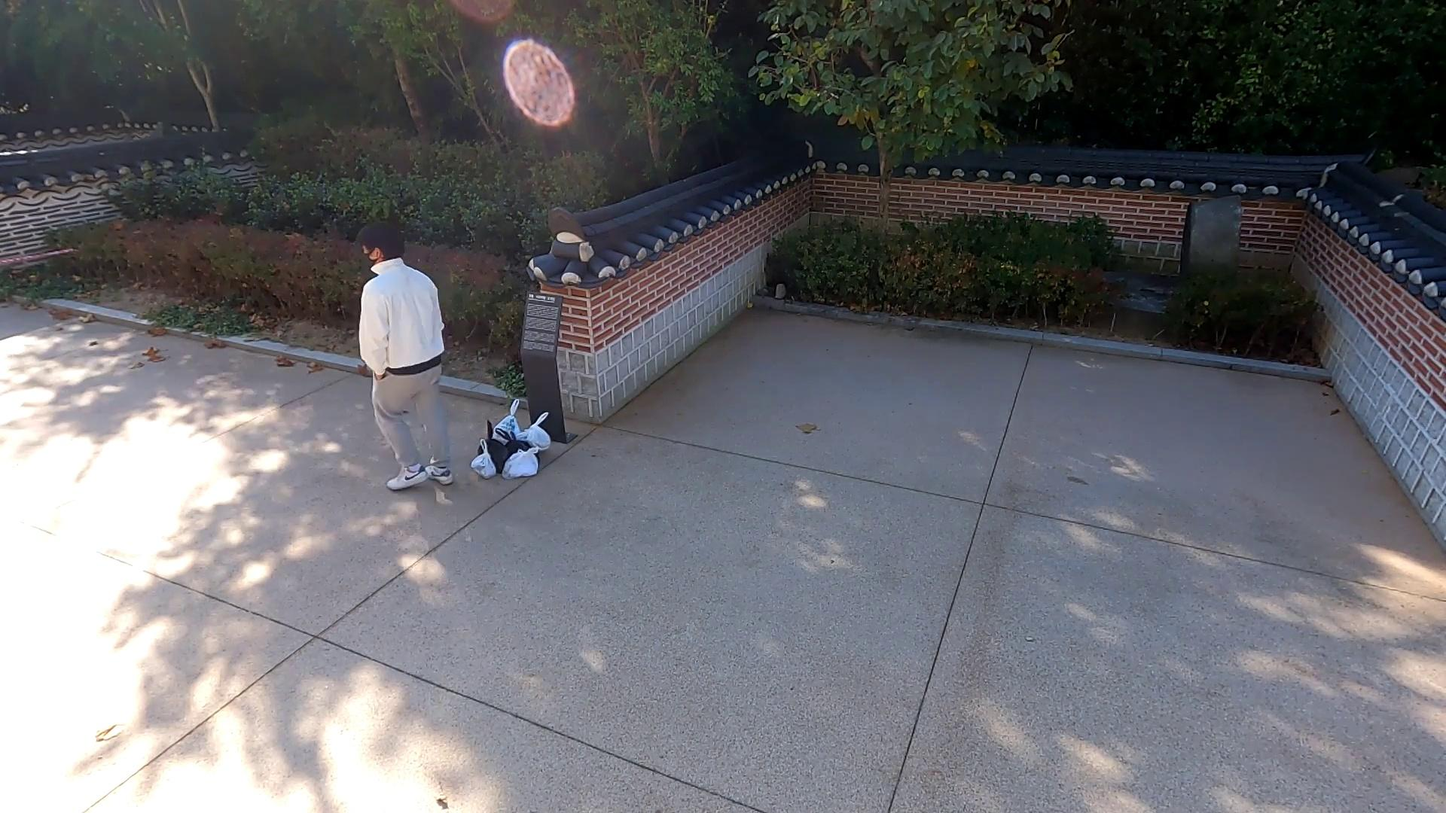person: (357, 219, 454, 492)
trash: (494, 426, 541, 476), (477, 420, 509, 476), (510, 411, 552, 452), (492, 399, 524, 448), (501, 446, 540, 479), (469, 439, 499, 481)
